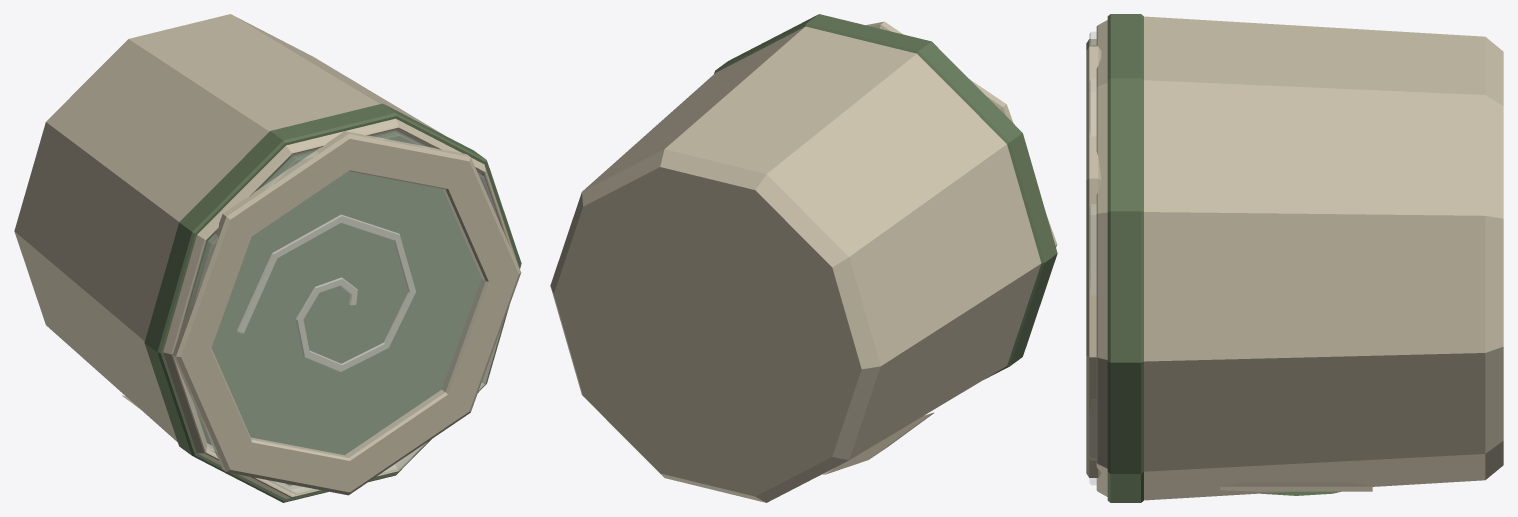
The model's file is mascarpone.glb.
The picture shows the model from 3 angles, left to right: view 1: azimuth 30°, elevation 25°; view 2: azimuth 150°, elevation 25°; view 3: azimuth 270°, elevation 25°; orthographic projection. The views are drawn at different scales.
Visible parts, largest first — view 1: mascarpone; view 2: mascarpone; view 3: mascarpone.
Boxes of the visible parts, box(x1,y1,x2,y2) form: mascarpone: box(14, 14, 521, 502); mascarpone: box(550, 14, 1057, 502); mascarpone: box(1086, 14, 1503, 502).
Bounding box in the file's own units: 0.097 × 0.095 × 0.0822.
